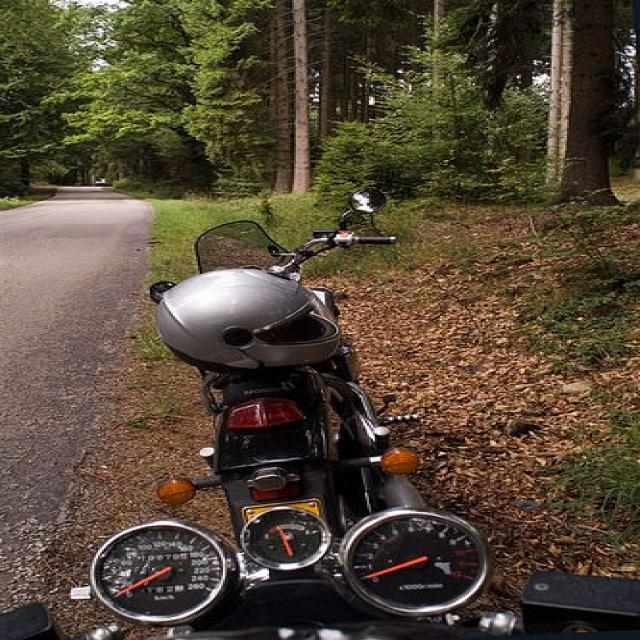motor: (145, 187, 433, 537)
